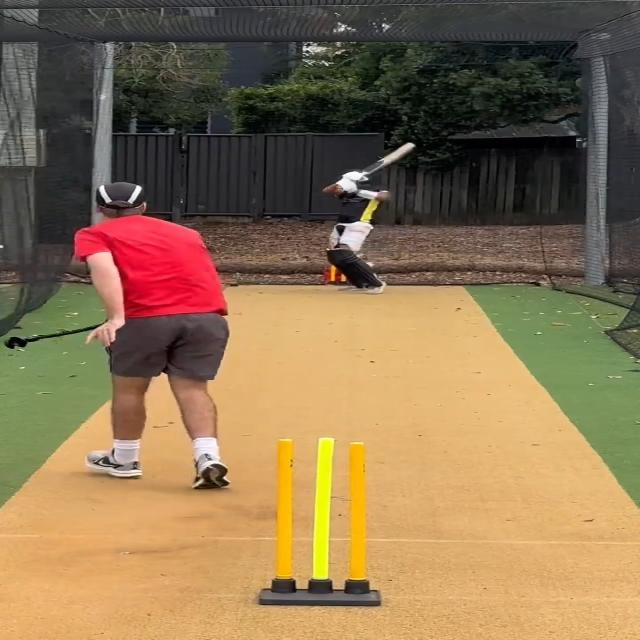stump: (259, 435, 383, 607)
